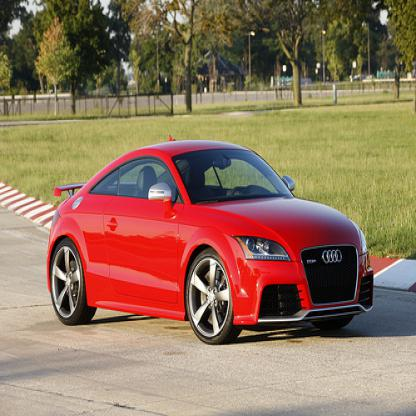Vehicle: (46, 137, 378, 350)
